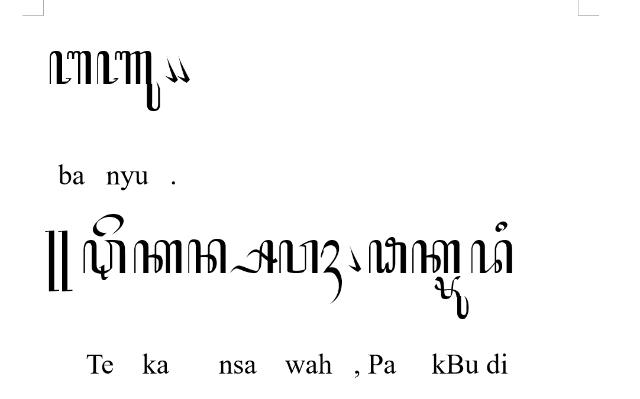Bu: (434, 276, 468, 320)
P: (368, 236, 406, 274)
T: (82, 239, 126, 281)
_h1: (320, 240, 342, 304)
_s: (228, 239, 278, 273)
adeg2: (45, 230, 73, 292)
b: (48, 50, 92, 84)
d: (471, 240, 514, 274)
e: (92, 213, 124, 237)
i: (494, 221, 508, 234)
k: (134, 240, 184, 274), (412, 240, 461, 274)
kom: (165, 56, 179, 84), (347, 244, 361, 272), (176, 56, 190, 82)
n: (187, 239, 227, 275)
nyu1: (96, 50, 162, 112)
w: (278, 240, 320, 274)
